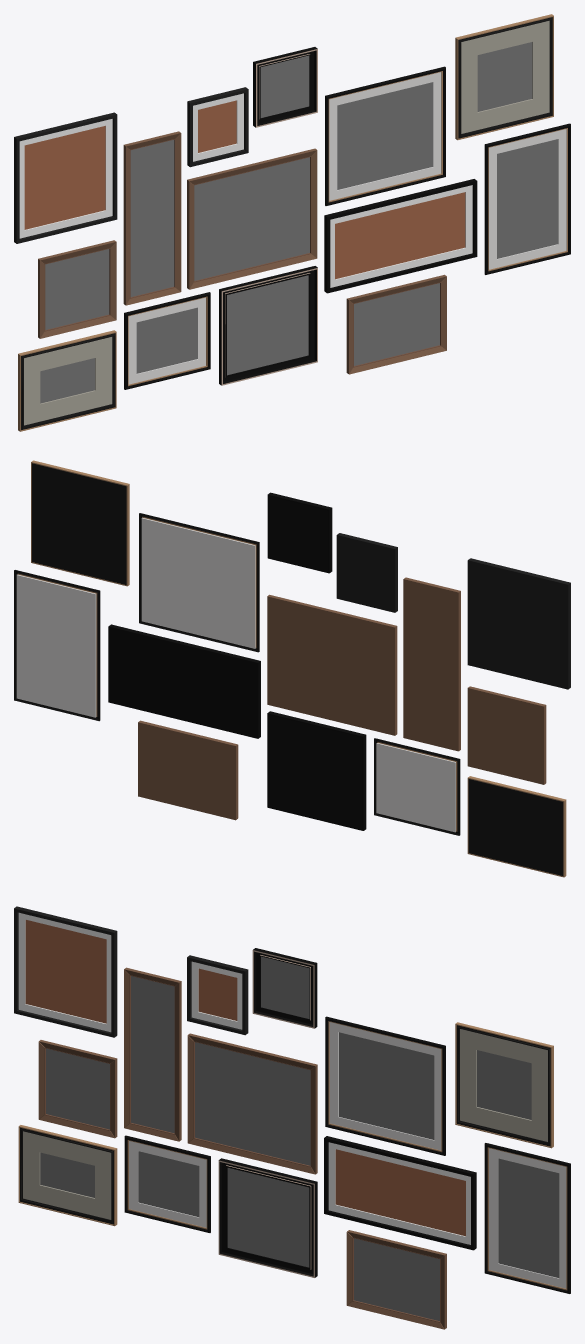
File: Picture.fbx
The picture shows the model from 3 angles, top to bottom: view 1: azimuth 30°, elevation 25°; view 2: azimuth 150°, elevation 25°; view 3: azimuth 330°, elevation 25°; orthographic projection.
Visible parts, largest first — view 1: 3dxy, Rectangle13577378, Rectangle13577375, Box1579145, Box02, Box24, Box8222668, Box8222662, Box04, Box8222665, Box8222666, Rectangle13577382 (+22 smaller); view 2: Rectangle13577364, Rectangle13577378, Box8222661, Rectangle13577375, Box8222667, w-cg.taoba, Rectangle13577363, Box01, Rectangle13577377, w-cg.taoba01, Rectangle13577380, Box8222664 (+10 smaller); view 3: 3dxy, Rectangle13577378, Rectangle13577375, Box1579145, Box02, Box8222668, Box24, Box8222662, Box04, Box8222665, Box8222666, Rectangle13577382 (+22 smaller).
Boxes of the visible parts, bbox=[...] form: 3dxy: bbox=[38, 42, 532, 403]; Rectangle13577378: bbox=[324, 179, 477, 293]; Rectangle13577375: bbox=[14, 112, 117, 243]; Box1579145: bbox=[194, 157, 309, 280]; Box02: bbox=[337, 82, 432, 189]; Box24: bbox=[130, 140, 174, 296]; Box8222668: bbox=[497, 139, 557, 258]; Box8222662: bbox=[354, 283, 439, 365]; Box04: bbox=[461, 20, 549, 133]; Box8222665: bbox=[24, 337, 112, 425]; Box8222666: bbox=[45, 249, 109, 329]; Rectangle13577382: bbox=[187, 87, 248, 167]; Rectangle13577364: bbox=[267, 594, 396, 735]; Rectangle13577378: bbox=[108, 624, 260, 738]; Box8222661: bbox=[141, 517, 255, 648]; Rectangle13577375: bbox=[467, 558, 570, 689]; Box8222667: bbox=[16, 574, 96, 717]; w-cg.taoba: bbox=[32, 463, 126, 584]; Rectangle13577363: bbox=[403, 577, 460, 751]; Box01: bbox=[268, 715, 362, 829]; Rectangle13577377: bbox=[138, 720, 237, 820]; w-cg.taoba01: bbox=[468, 779, 563, 875]; Rectangle13577380: bbox=[467, 686, 545, 784]; Box8222664: bbox=[376, 743, 455, 832]; 3dxy: bbox=[38, 950, 531, 1329]; Rectangle13577378: bbox=[324, 1136, 476, 1250]; Rectangle13577375: bbox=[14, 906, 117, 1037]; Box1579145: bbox=[195, 1042, 310, 1165]; Box02: bbox=[339, 1032, 434, 1139]; Box8222668: bbox=[498, 1158, 559, 1277]; Box24: bbox=[131, 976, 174, 1133]; Box8222662: bbox=[354, 1238, 439, 1321]; Box04: bbox=[460, 1029, 547, 1141]; Box8222665: bbox=[23, 1131, 111, 1219]; Box8222666: bbox=[46, 1048, 109, 1129]; Rectangle13577382: bbox=[187, 955, 248, 1035].
Size of the model in its own units: 2578 by 1481 by 23.82.
